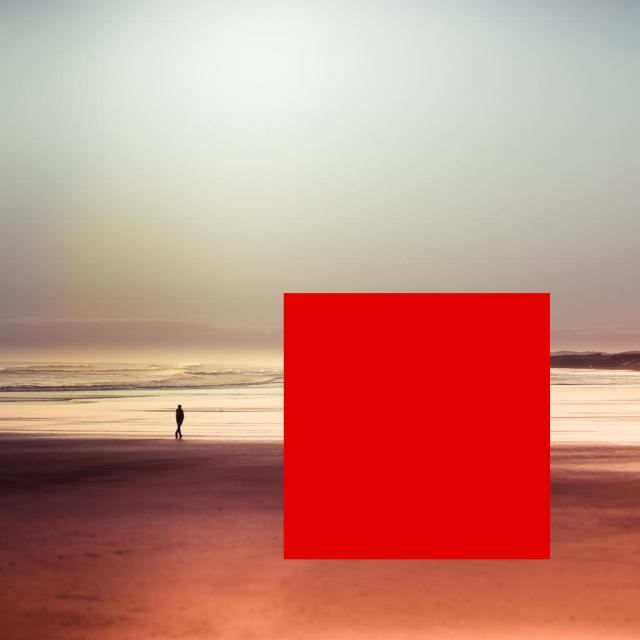RedSquare: (273, 284, 564, 566)
